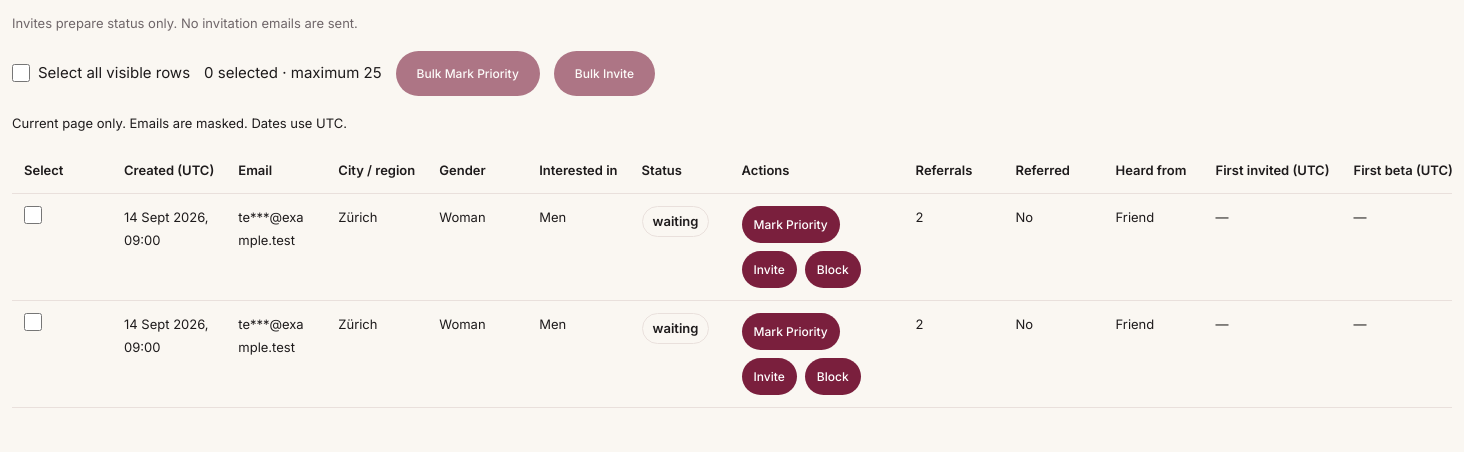
Test case: selects only visible rows, submits bounded batch and refreshes status metrics
The image size is (1464, 452).
Click the checkbox labelled "Select all visible rows" at (21, 73), box [12,64,30,82]
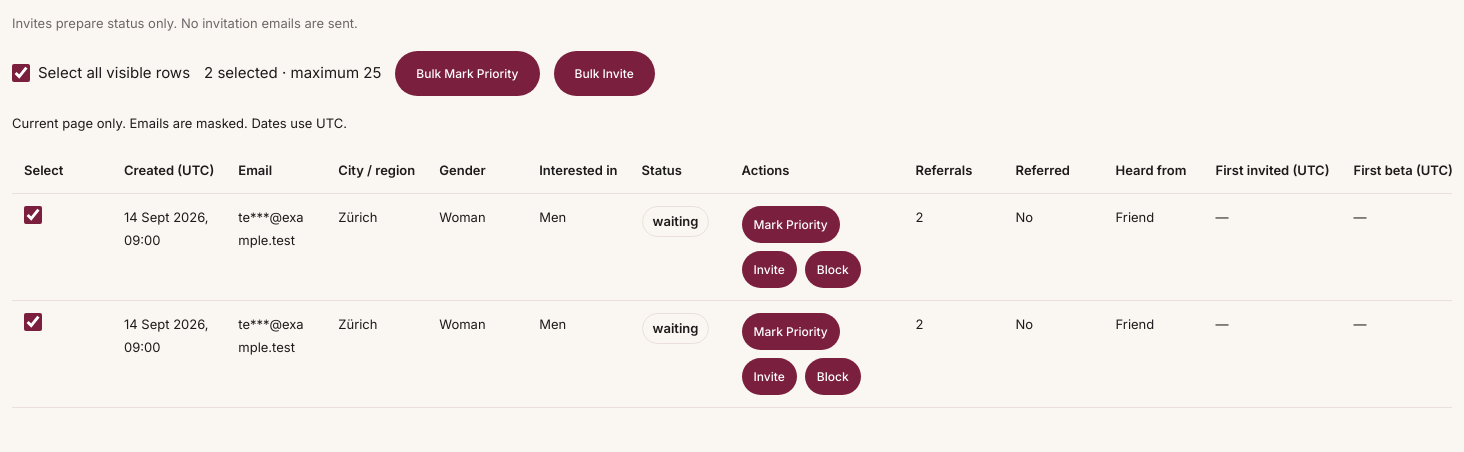
Click the button "Bulk Invite" at (604, 73), box [554,51,655,96]
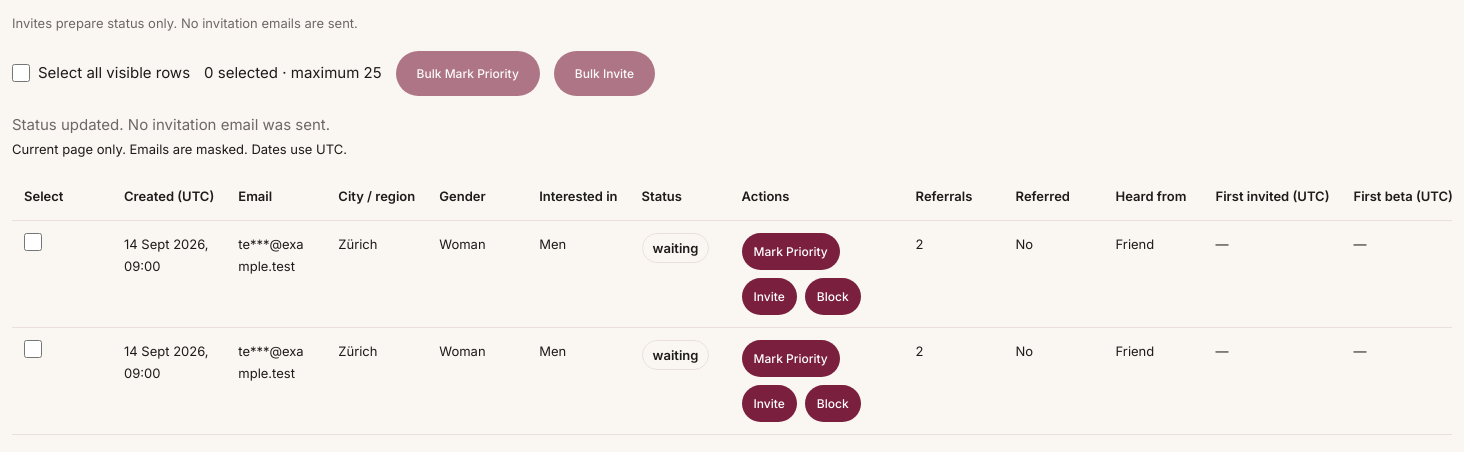
Check: the message reads "Status updated. No invitation email was sent.", box [12,115,330,134]
Check: the checkbox named "Select row 1" is not checked, box [24,232,42,250]
